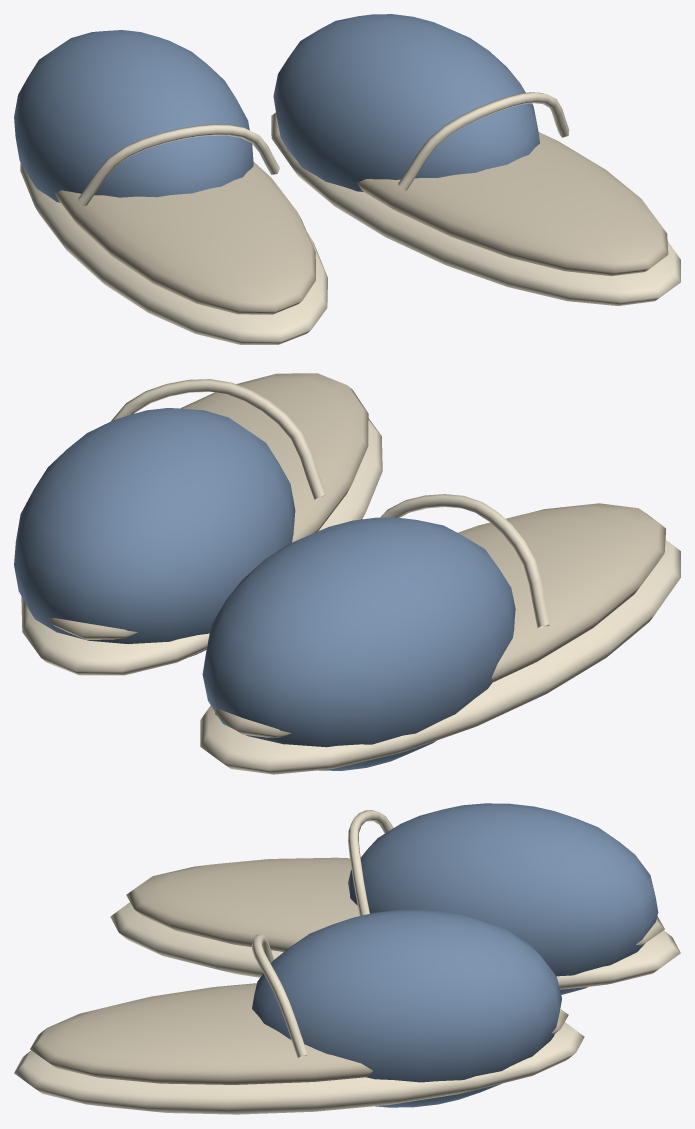
File: family-blue-slippers-v1.glb
The picture shows the model from 3 angles, top to bottom: view 1: azimuth 30°, elevation 25°; view 2: azimuth 150°, elevation 25°; view 3: azimuth 270°, elevation 25°; orthographic projection. The views are drawn at different scales.
Visible parts, largest first — view 1: Slipper toe (×2), Footbed (×2), Padded sole (×2), Piping (×2); view 2: Slipper toe (×2), Footbed (×2), Padded sole (×2), Piping (×2); view 3: Slipper toe (×2), Footbed (×2), Padded sole (×2), Piping (×2).
Part boxes in pixels (<box>): Slipper toe (×2): <box>14,14,539,202</box>; Footbed (×2): <box>55,132,668,314</box>; Padded sole (×2): <box>20,112,680,344</box>; Piping (×2): <box>78,92,569,205</box>; Slipper toe (×2): <box>14,408,515,770</box>; Footbed (×2): <box>47,373,665,737</box>; Padded sole (×2): <box>21,418,680,774</box>; Piping (×2): <box>111,379,549,627</box>; Slipper toe (×2): <box>252,803,658,1107</box>; Footbed (×2): <box>30,857,664,1084</box>; Padded sole (×2): <box>14,902,680,1114</box>; Piping (×2): <box>252,810,393,1057</box>.
Bounding box in the file's own units: 0.2316 × 0.084 × 0.2912.
